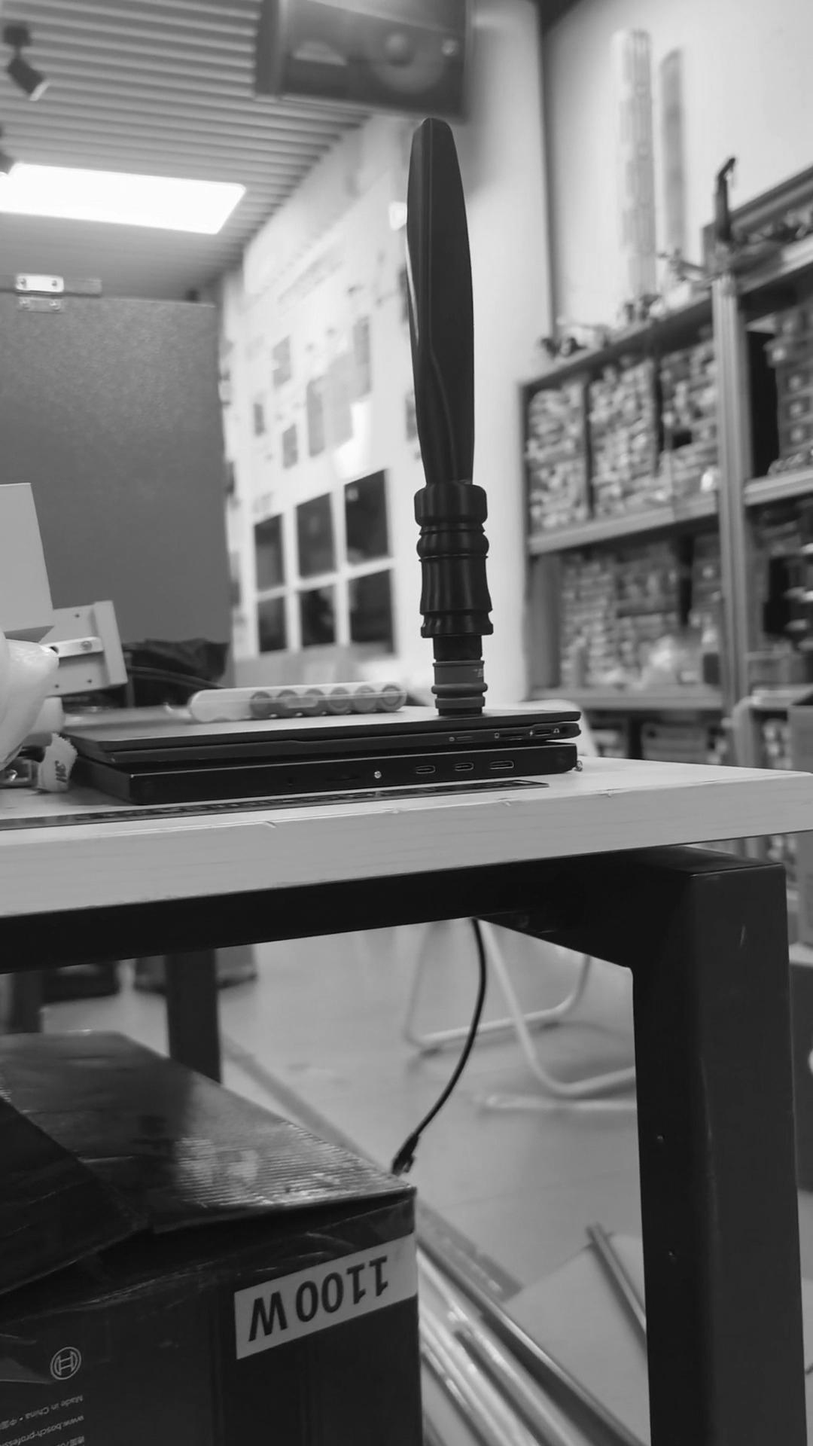base: (431, 658, 488, 714)
